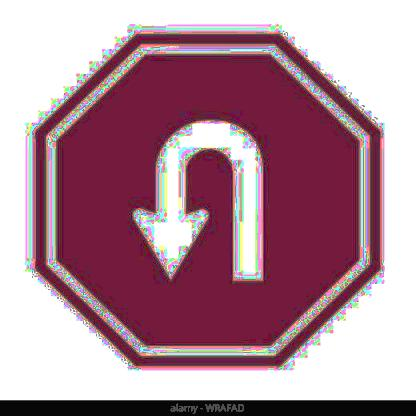U-turn: (32, 28, 396, 370)
